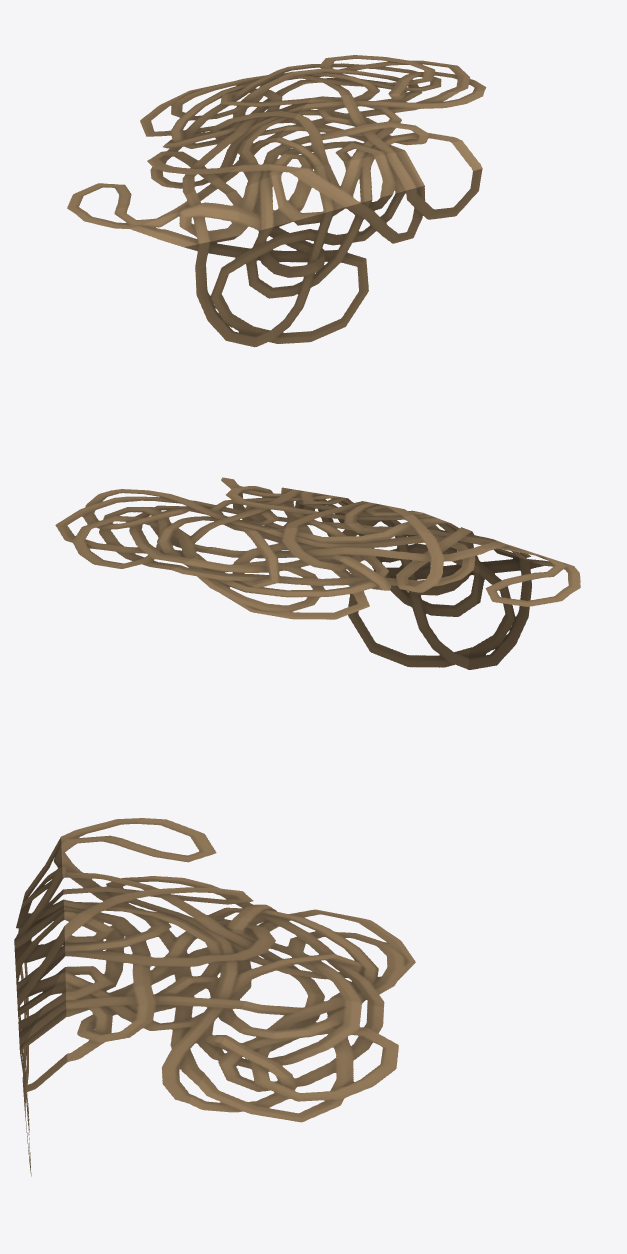
File: SM_Prop_Ropes_05.fbx
The picture shows the model from 3 angles, top to bottom: view 1: azimuth 30°, elevation 25°; view 2: azimuth 150°, elevation 25°; view 3: azimuth 270°, elevation 25°; orthographic projection. The views are drawn at different scales.
Visible parts, largest first — view 1: SM_Prop_Ropes_05; view 2: SM_Prop_Ropes_05; view 3: SM_Prop_Ropes_05.
Boxes of the visible parts, <box> form: SM_Prop_Ropes_05: <box>67,55,486,347</box>; SM_Prop_Ropes_05: <box>55,477,580,669</box>; SM_Prop_Ropes_05: <box>14,818,415,1176</box>.
Bounding box in the file's own units: 246 × 97.35 × 153.
